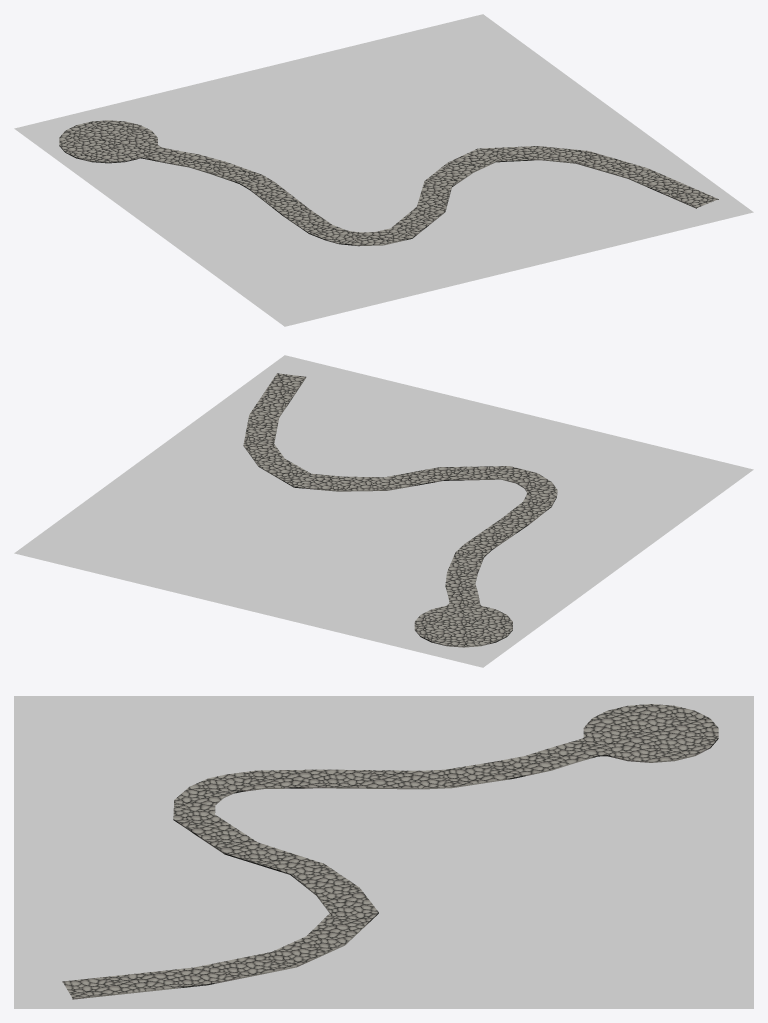
File: Level_1.FBX
The picture shows the model from 3 angles, top to bottom: view 1: azimuth 30°, elevation 25°; view 2: azimuth 150°, elevation 25°; view 3: azimuth 270°, elevation 25°; orthographic projection. The views are drawn at different scales.
Parts seen in each view (by area): view 1: Plane001, Cylinder001; view 2: Plane001, Cylinder001; view 3: Plane001, Cylinder001.
Part boxes in pixels (x1,y1,x2,y2): Plane001: [14, 14, 753, 326]; Cylinder001: [59, 120, 718, 246]; Plane001: [14, 355, 753, 667]; Cylinder001: [243, 373, 557, 647]; Plane001: [14, 696, 753, 1008]; Cylinder001: [62, 704, 718, 999].
Bounding box in the file's own units: 1777 × 18.57 × 1777.
1 material, 1 textured.
